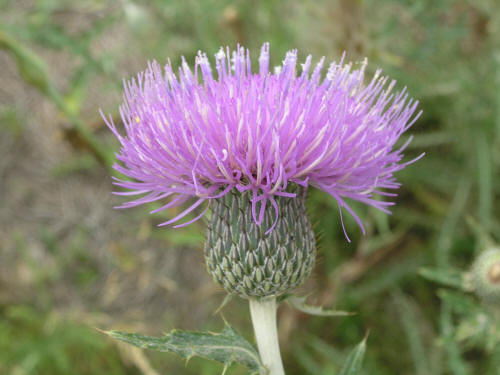thistle: (102, 46, 430, 301)
